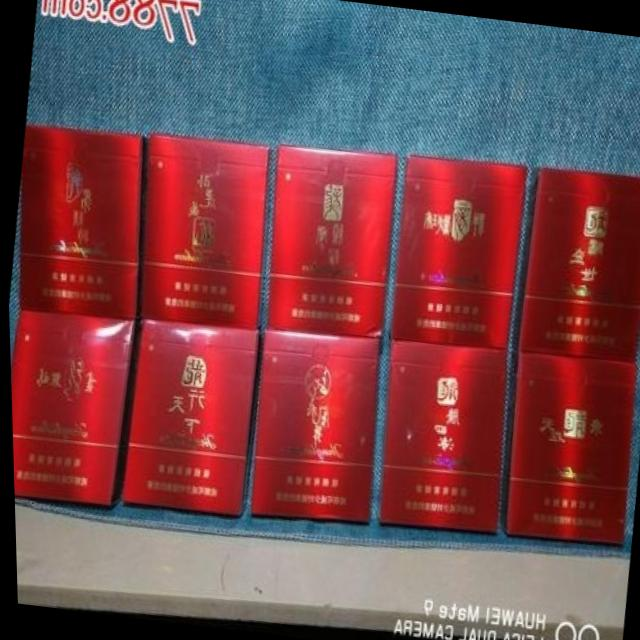box: (117, 318, 261, 514), (496, 350, 636, 549), (387, 152, 526, 348), (134, 133, 270, 329), (373, 340, 508, 533), (246, 328, 379, 523), (14, 124, 146, 319), (508, 168, 640, 362), (264, 145, 397, 337), (8, 312, 133, 508)
